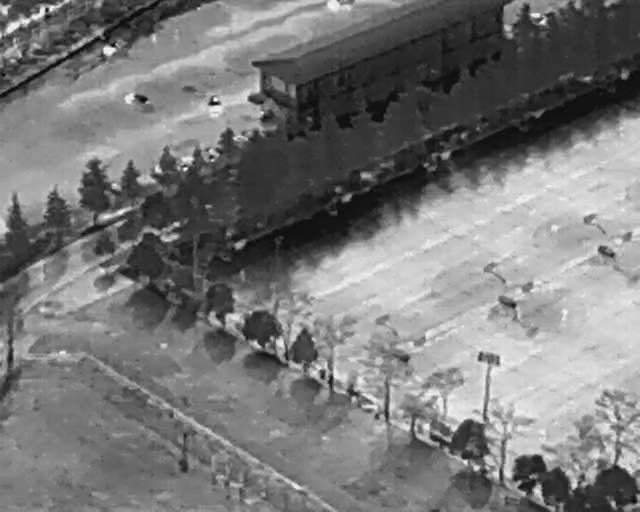Car: (122, 86, 157, 118), (101, 33, 129, 61), (206, 95, 224, 116), (325, 0, 356, 12)
Person: (559, 306, 569, 322), (149, 30, 157, 45), (550, 222, 558, 234)
